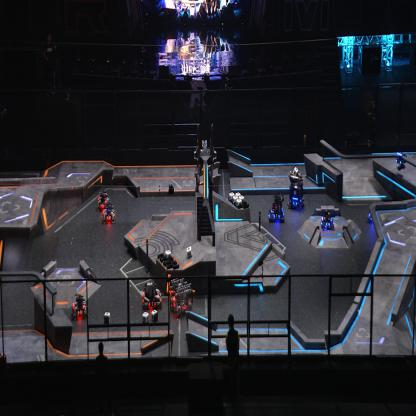car: (168, 275, 194, 318), (141, 278, 163, 309), (287, 170, 304, 210), (267, 191, 285, 221), (70, 292, 88, 321), (319, 208, 337, 232), (367, 201, 381, 223), (101, 202, 115, 223), (96, 189, 110, 209)
